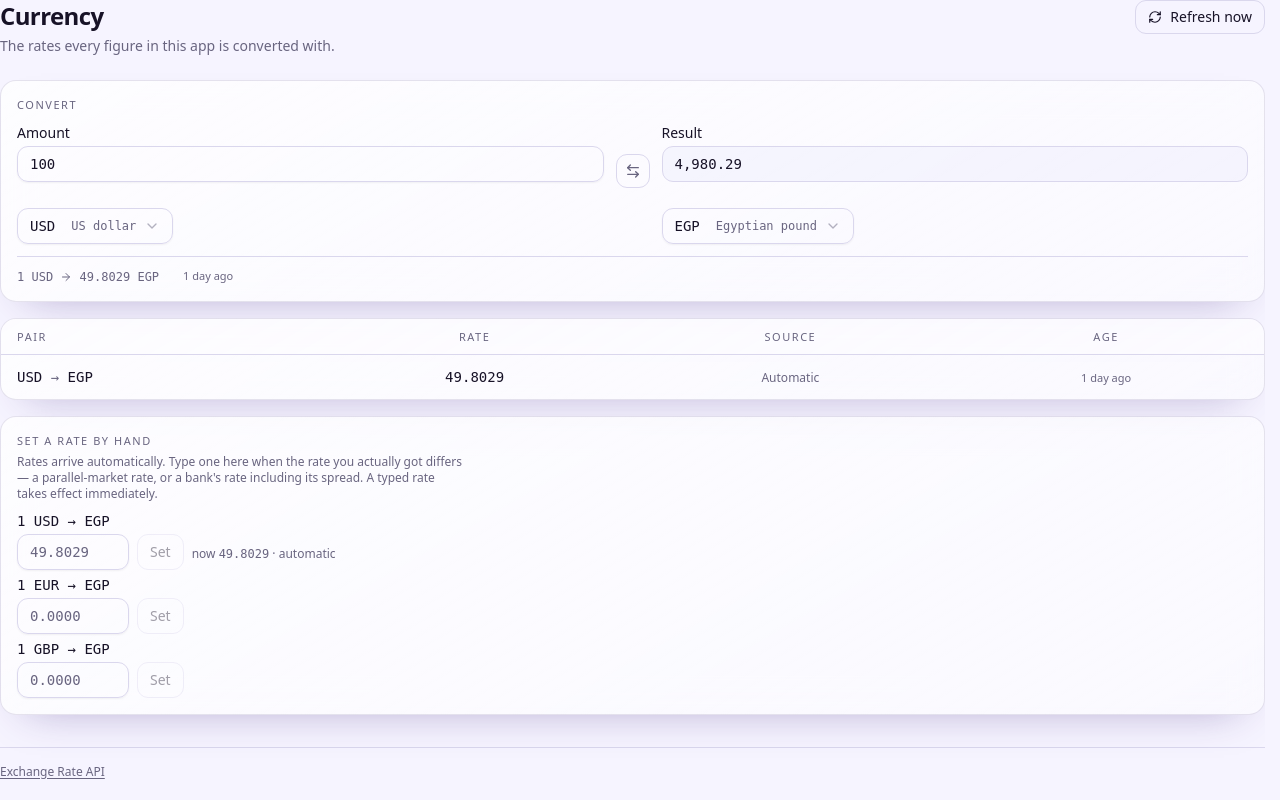
Scenario: refreshing › says plainly when nothing moved
This screenshot has width=1280, height=800.
Click the button "Refresh now".
click(1200, 17)  # box [1135,0,1265,34]
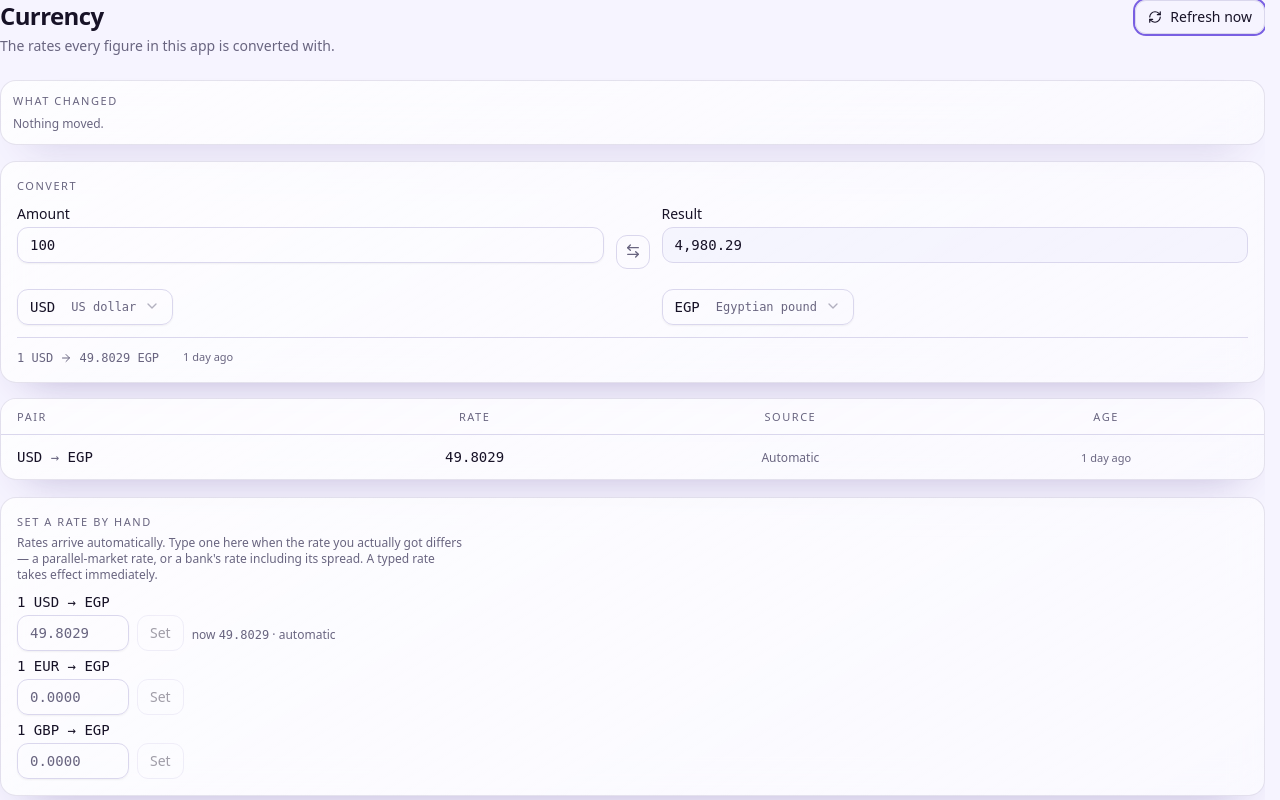
Now the text "Nothing moved." is shown, box [13,114,104,132]
